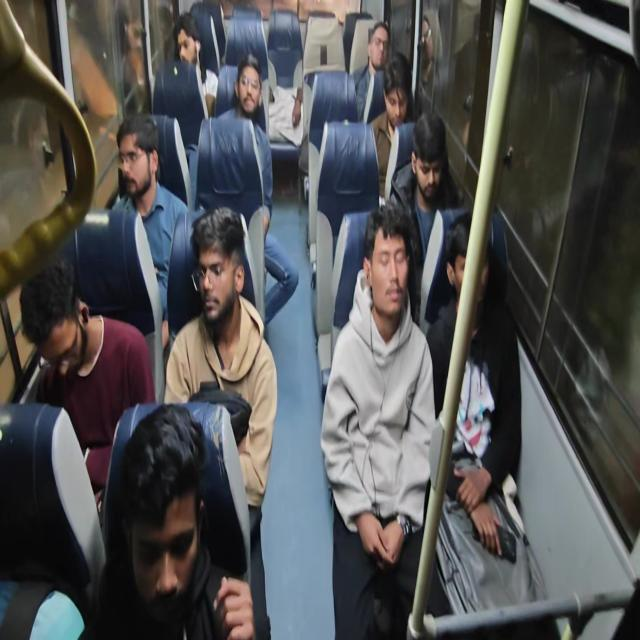person: (13, 1, 556, 638), (424, 212, 550, 625), (320, 200, 437, 638), (163, 205, 278, 637), (80, 401, 256, 639), (19, 257, 156, 511), (216, 53, 298, 326), (111, 112, 188, 345), (387, 111, 466, 324), (368, 51, 416, 202), (172, 11, 218, 119), (352, 21, 390, 123)
